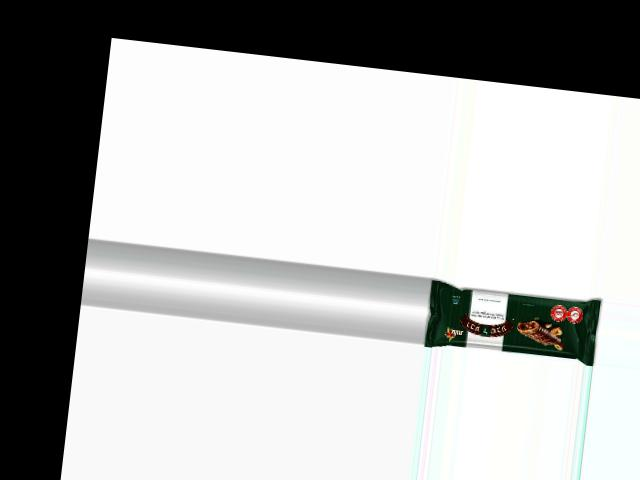chocolate: (421, 276, 602, 366)
